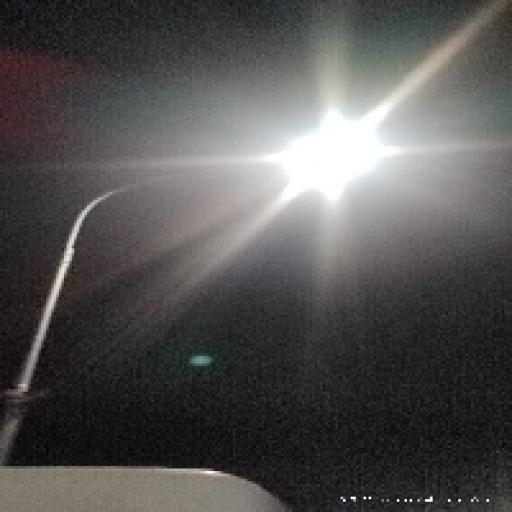Working: (259, 96, 430, 223)
